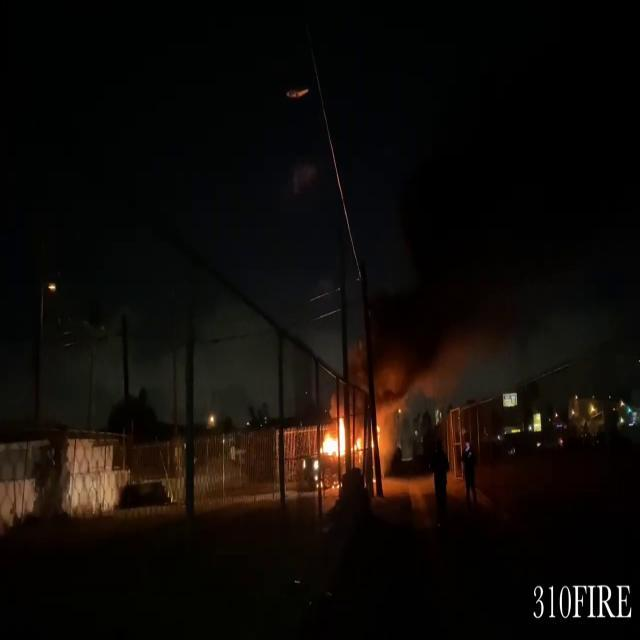Fire: (317, 402, 365, 476)
